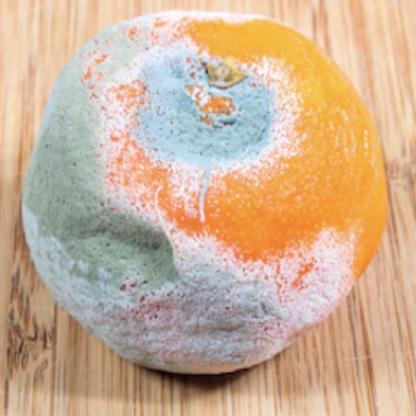rotten: (24, 9, 391, 378)
